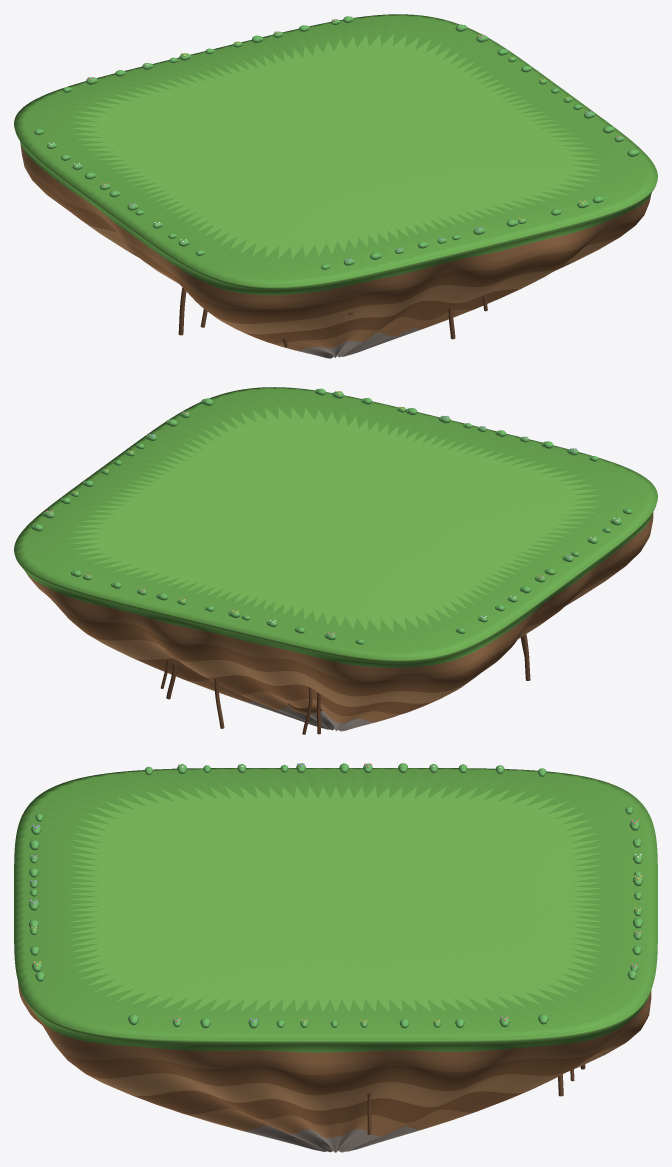
The model's file is island.glb.
3 views of the same model, one above another, from view 1: azimuth 30°, elevation 25°; view 2: azimuth 150°, elevation 25°; view 3: azimuth 270°, elevation 25° (orthographic). The views are drawn at different scales.
Visible parts, largest first — view 1: island; view 2: island; view 3: island.
Part boxes in pixels (box(x1,y1,x2,y2)): island: box(14, 14, 657, 358); island: box(14, 387, 657, 734); island: box(14, 763, 657, 1152).
Bounding box in the file's own units: 9.27 × 4.11 × 9.27.
